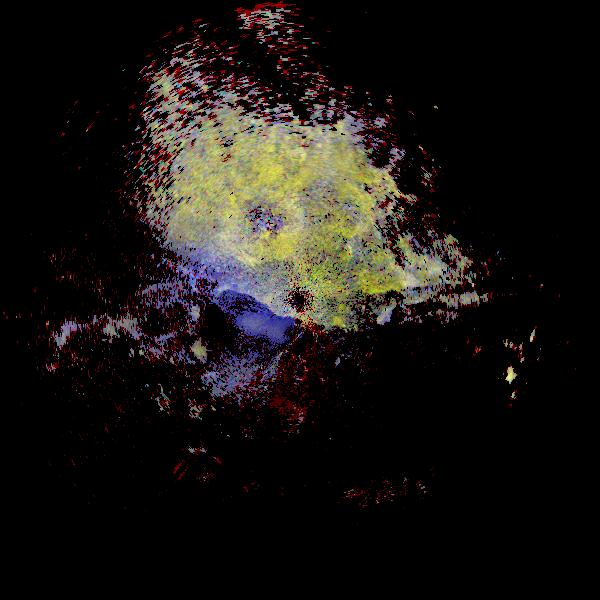roost: (23, 290, 185, 452), (205, 165, 316, 276)
